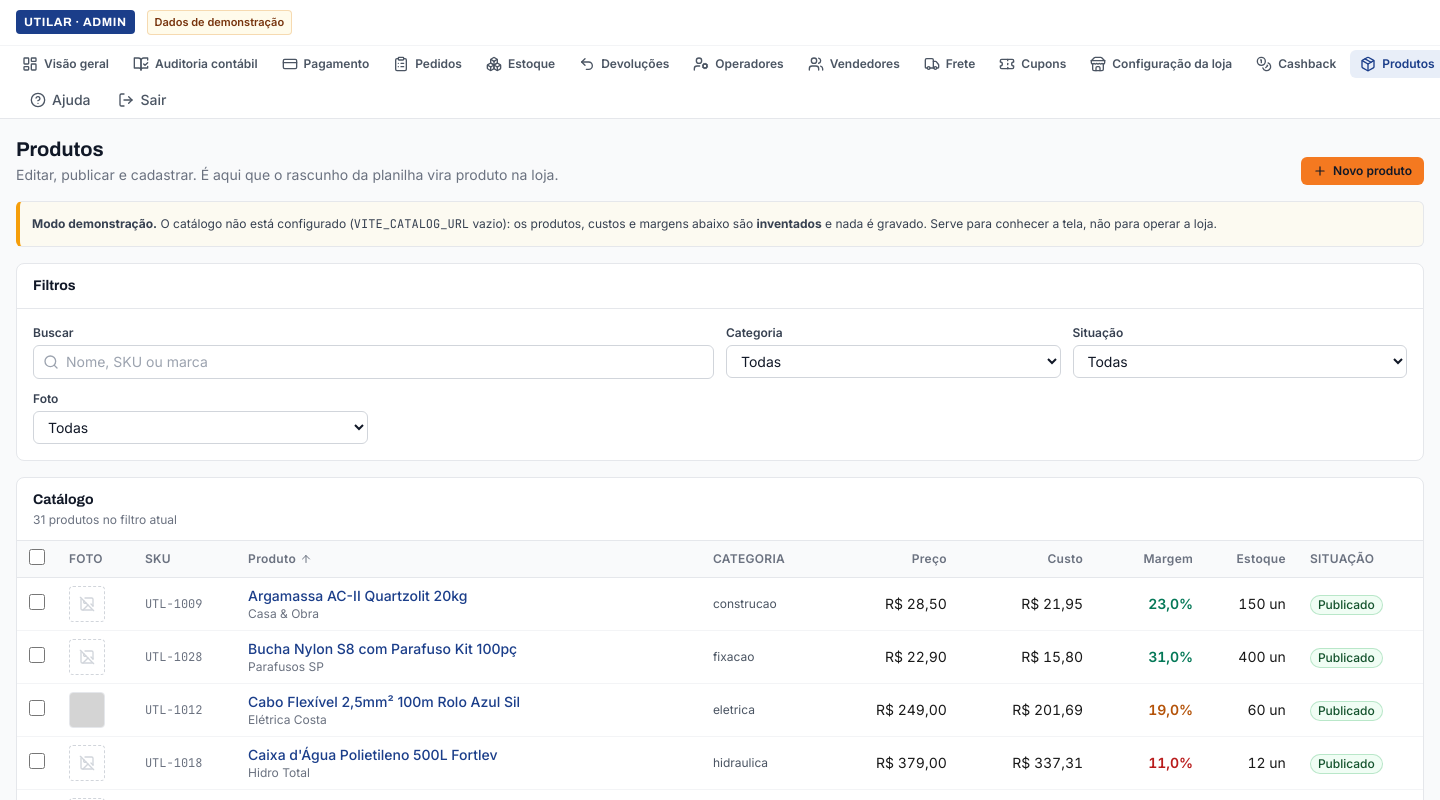
it: Lista — tela › oferece a ação em lote só depois de selecionar, e publica a seleção
This screenshot has width=1440, height=800.
Click the checkbox named "Selecionar Argamassa AC-II Quartzolit 20kg". click: (37, 602)
box: x1=29 y1=594 x2=45 y2=610
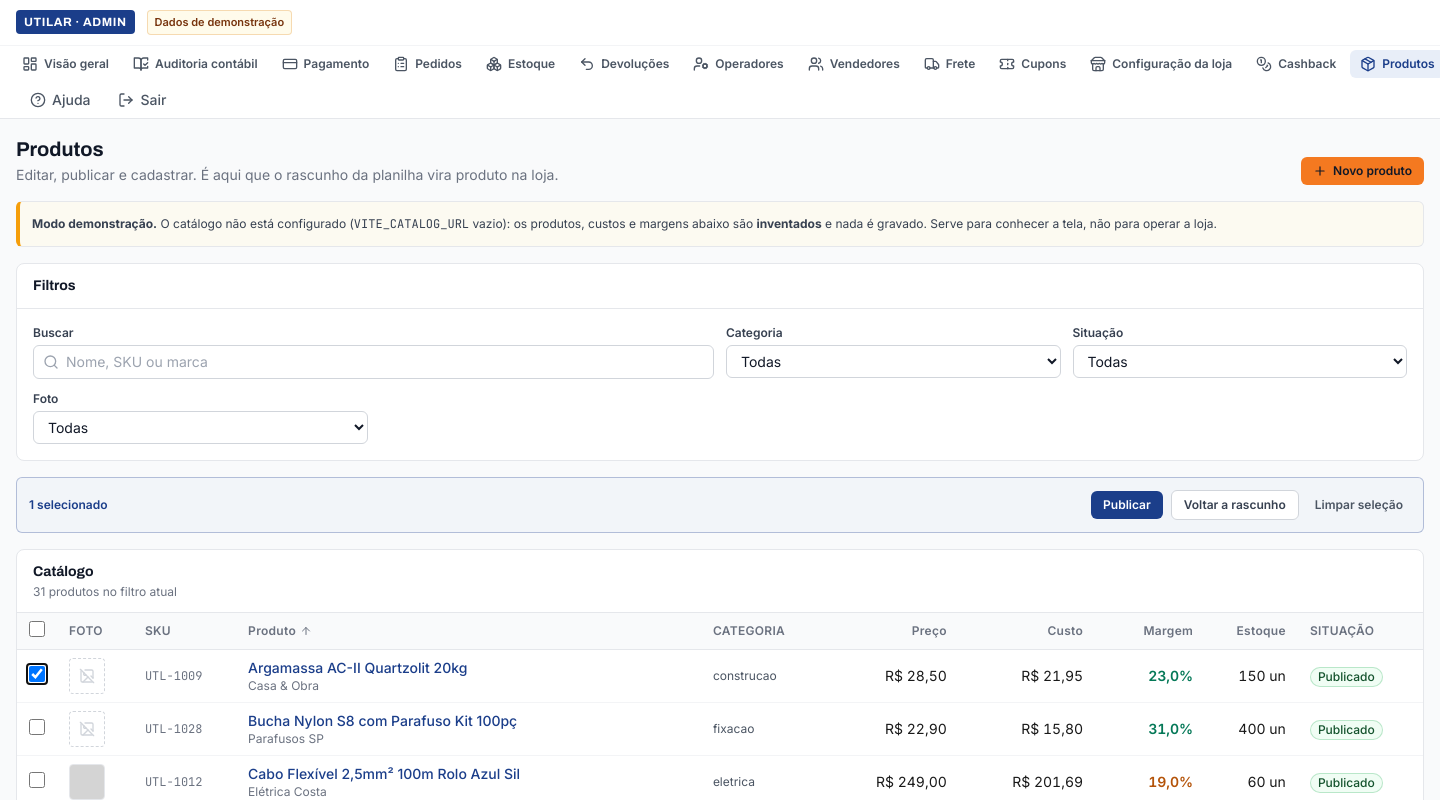
Click the button "Publicar". click: (1127, 505)
box: x1=1091 y1=491 x2=1163 y2=519
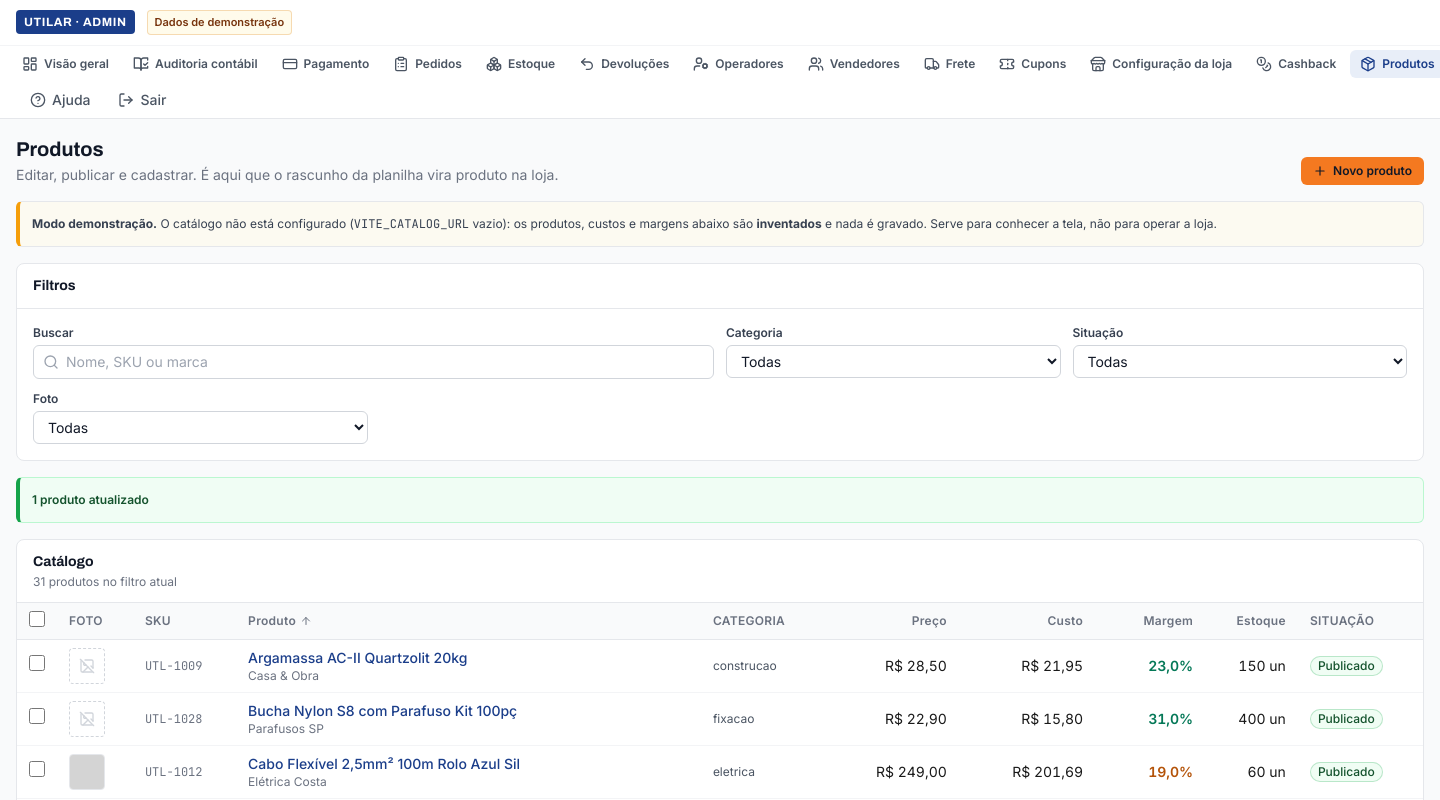
Expected: the message shows "atualizado", x1=86 y1=492 x2=149 y2=507
